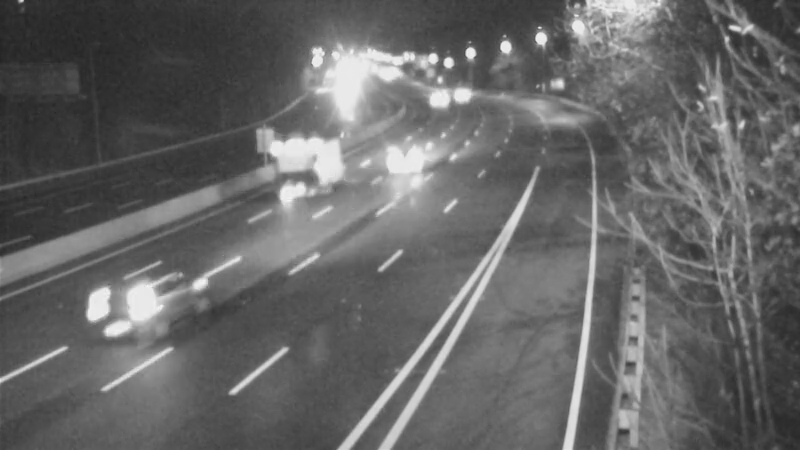vehicle: (72, 258, 182, 368), (365, 120, 445, 200), (257, 129, 337, 209), (433, 65, 483, 115), (413, 73, 463, 123)
